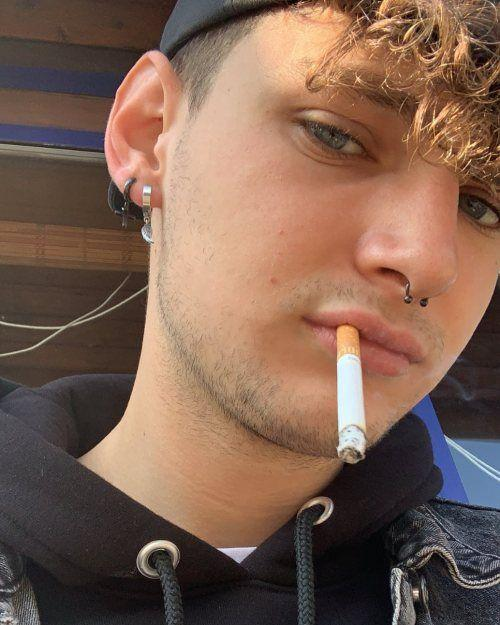cigarette: (336, 325, 367, 466)
